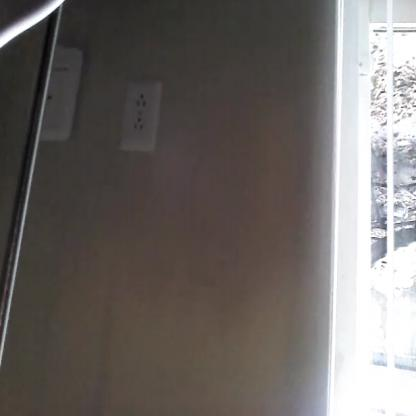OUTLET: (118, 78, 163, 153)
